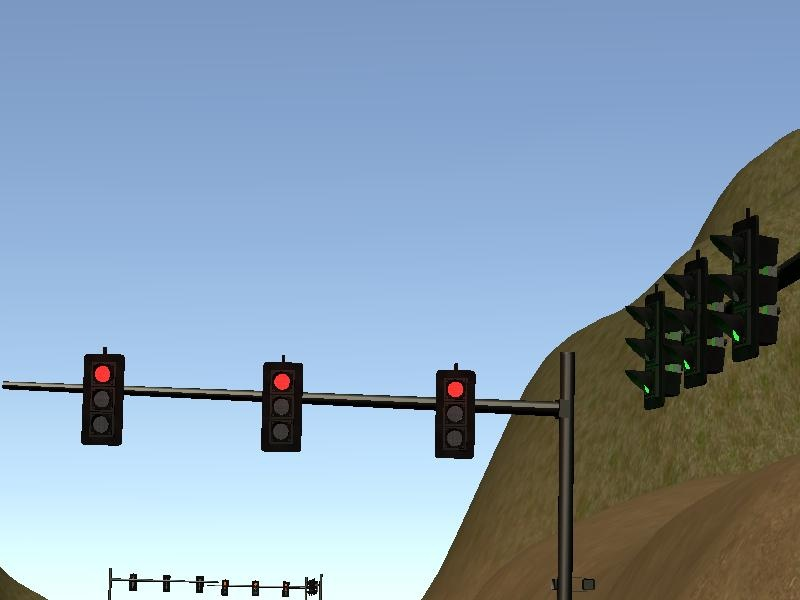RED: (81, 353, 122, 447), (261, 358, 302, 452), (434, 366, 475, 460)
